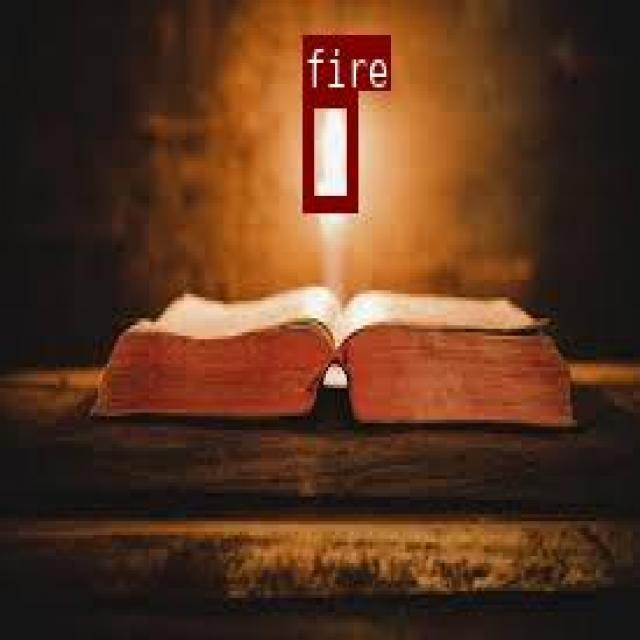fire: (301, 89, 356, 207)
